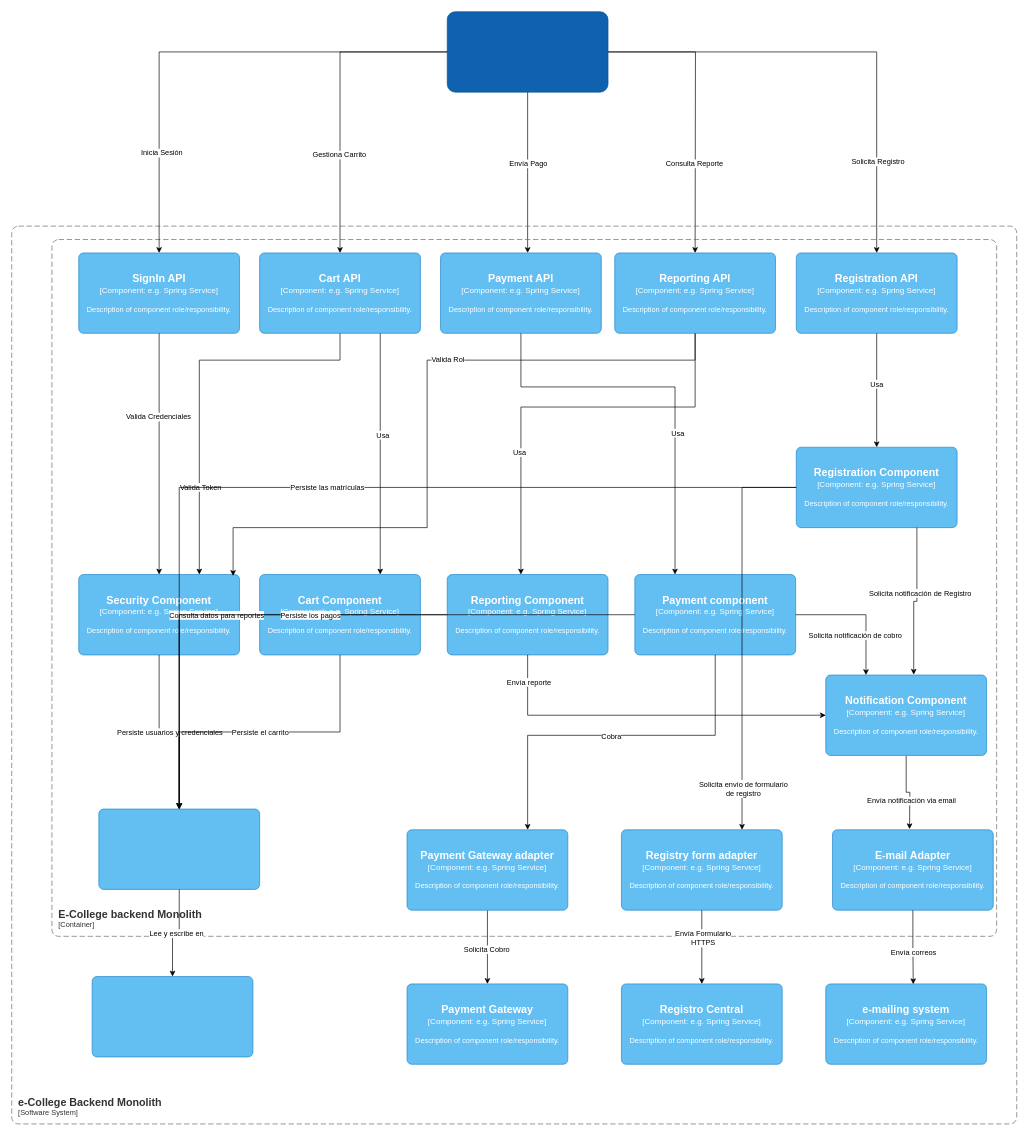
Some shapes in this 1028 by 1136 pixel diagram are drawn without their labels. The centre of each missing label's shape, as x and y in pixels:
"Base de datos [Component: Postgresql] Base de datos en postgresql" belongs at [172,1016].
"Database Adapter [Component: PostgreSQL] The adapter for the postgresql database" belongs at [179,848].
"FrontEnd [Software System] Description of software system." belongs at [527,51].
